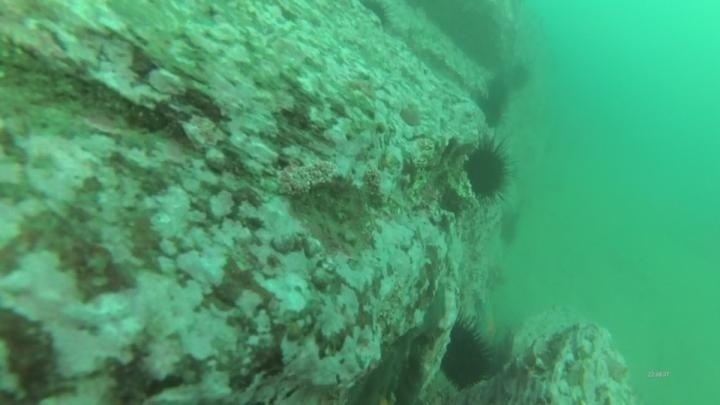echinus: (438, 316, 495, 390), (458, 136, 516, 204), (472, 92, 508, 129), (502, 59, 534, 95), (358, 0, 393, 31)
starfish: (471, 296, 508, 352)
